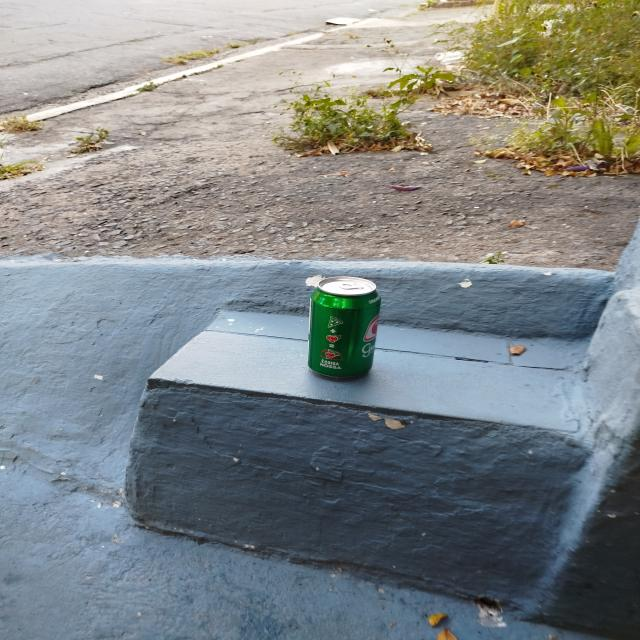Guarana: (306, 276, 381, 376)
